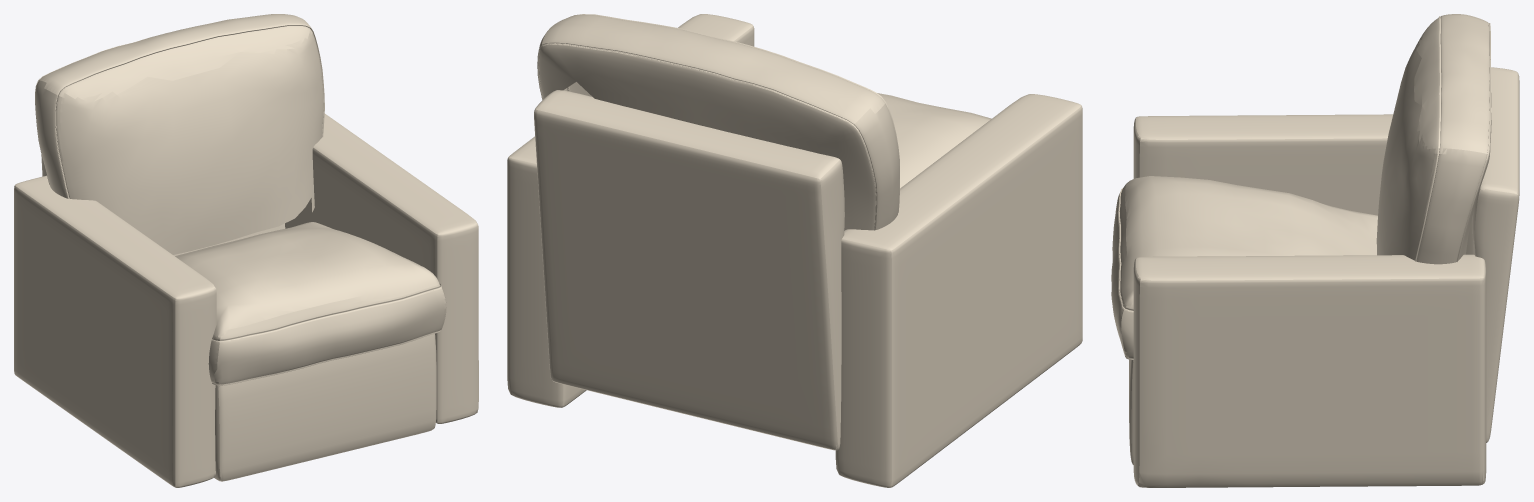
The model's file is Connery_v2.fbx.
3 views of the same model, side by side, from view 1: azimuth 30°, elevation 25°; view 2: azimuth 150°, elevation 25°; view 3: azimuth 270°, elevation 25° (orthographic). The views are drawn at different scales.
Parts seen in each view (by area): view 1: Box01_02_-_Default, Box06_02_-_Defaul.001, Box04_02_-_Default, Box05_02_-_Default, Box06_02_-_Defaul; view 2: Box03_02_-_Default, Box06_02_-_Defaul.001, Box01_02_-_Default, Box06_02_-_Defaul, Box04_02_-_Default; view 3: Box06_02_-_Defaul, Box01_02_-_Default, Box04_02_-_Default, Box06_02_-_Defaul.001, Box03_02_-_Default, Box05_02_-_Default.
Part boxes in pixels (<box>): Box01_02_-_Default: <box>35,14,324,254</box>; Box06_02_-_Defaul.001: <box>14,175,216,487</box>; Box04_02_-_Default: <box>175,222,446,385</box>; Box05_02_-_Default: <box>214,333,436,481</box>; Box06_02_-_Defaul: <box>285,113,478,423</box>; Box03_02_-_Default: <box>534,90,844,450</box>; Box06_02_-_Defaul.001: <box>835,94,1082,487</box>; Box01_02_-_Default: <box>537,14,899,230</box>; Box06_02_-_Defaul: <box>507,14,754,407</box>; Box04_02_-_Default: <box>877,93,991,188</box>; Box06_02_-_Defaul: <box>1133,254,1486,487</box>; Box01_02_-_Default: <box>1376,14,1491,264</box>; Box04_02_-_Default: <box>1111,176,1377,359</box>; Box06_02_-_Defaul.001: <box>1133,114,1393,215</box>; Box03_02_-_Default: <box>1466,67,1519,442</box>; Box05_02_-_Default: <box>1129,359,1133,464</box>.
Size of the model in its own units: 0.00921 by 0.00887 by 0.00947.
